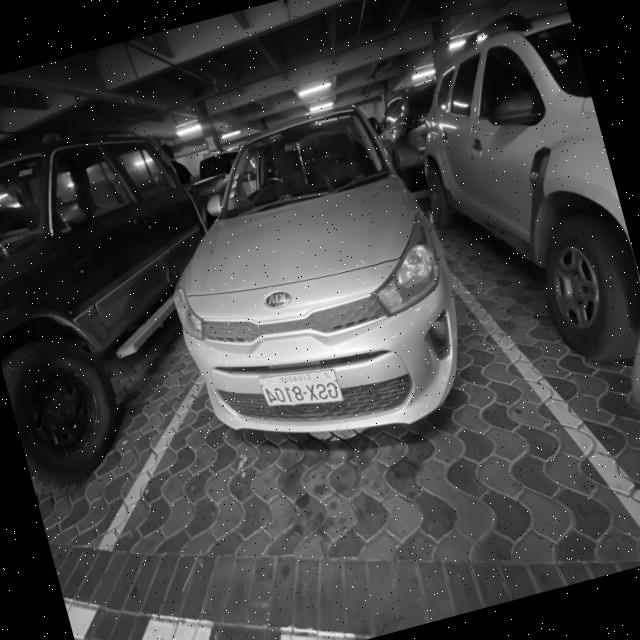Placa: (257, 369, 342, 406)
